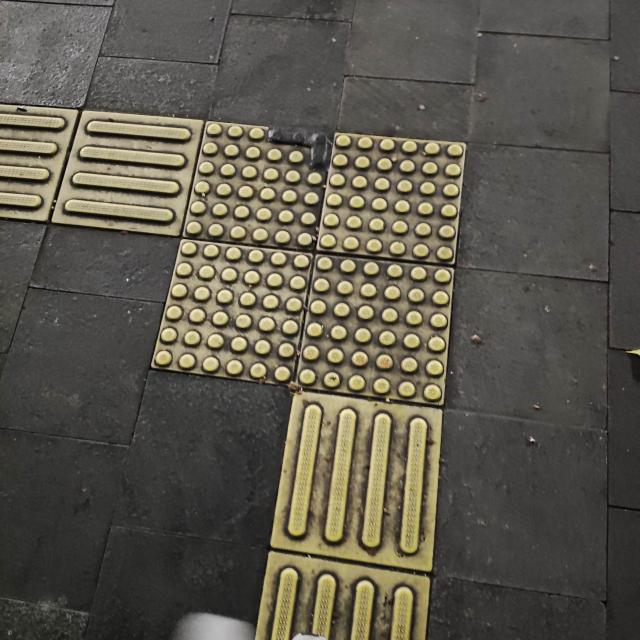kiri: (0, 44, 481, 507)
